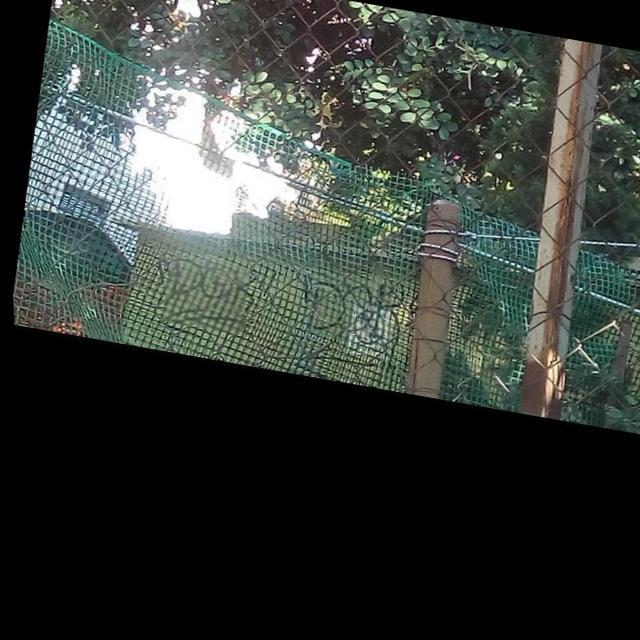-: (156, 254, 250, 335), (300, 271, 394, 347)
